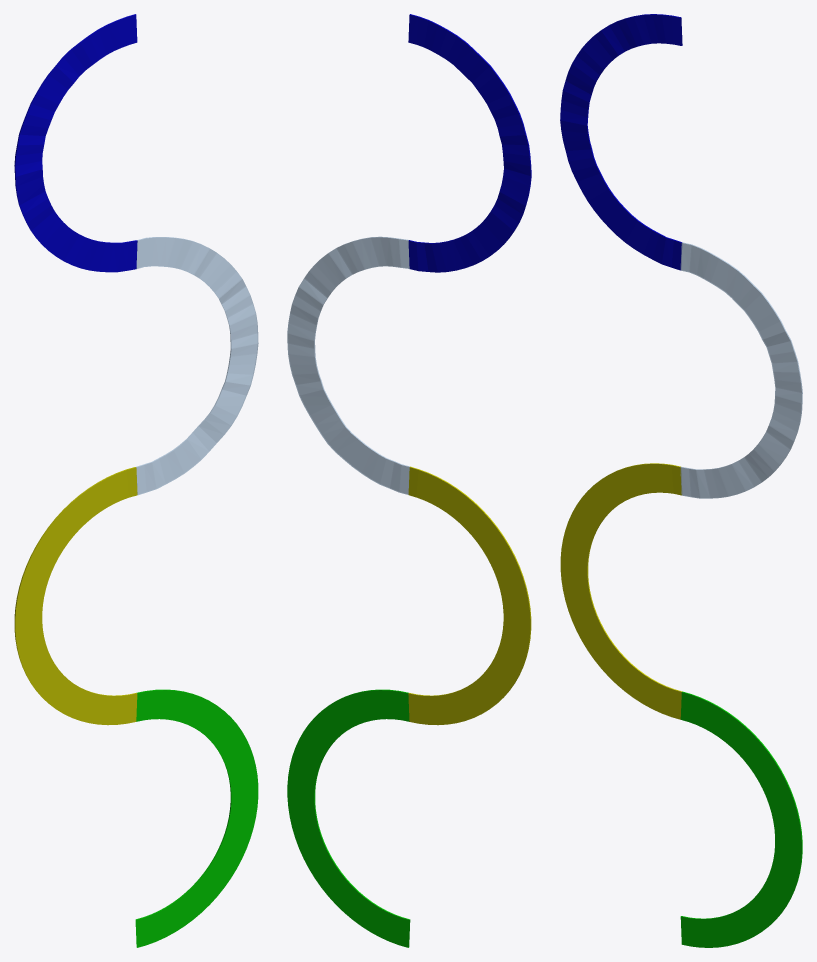
File: adaptive_terrain_continuous_s_curves_gradient.obj
The picture shows the model from 3 angles, left to right: view 1: azimuth 30°, elevation 25°; view 2: azimuth 150°, elevation 25°; view 3: azimuth 330°, elevation 25°; orthographic projection.
Size of the model in its own units: 17.99 by 66 by 0.2399.
